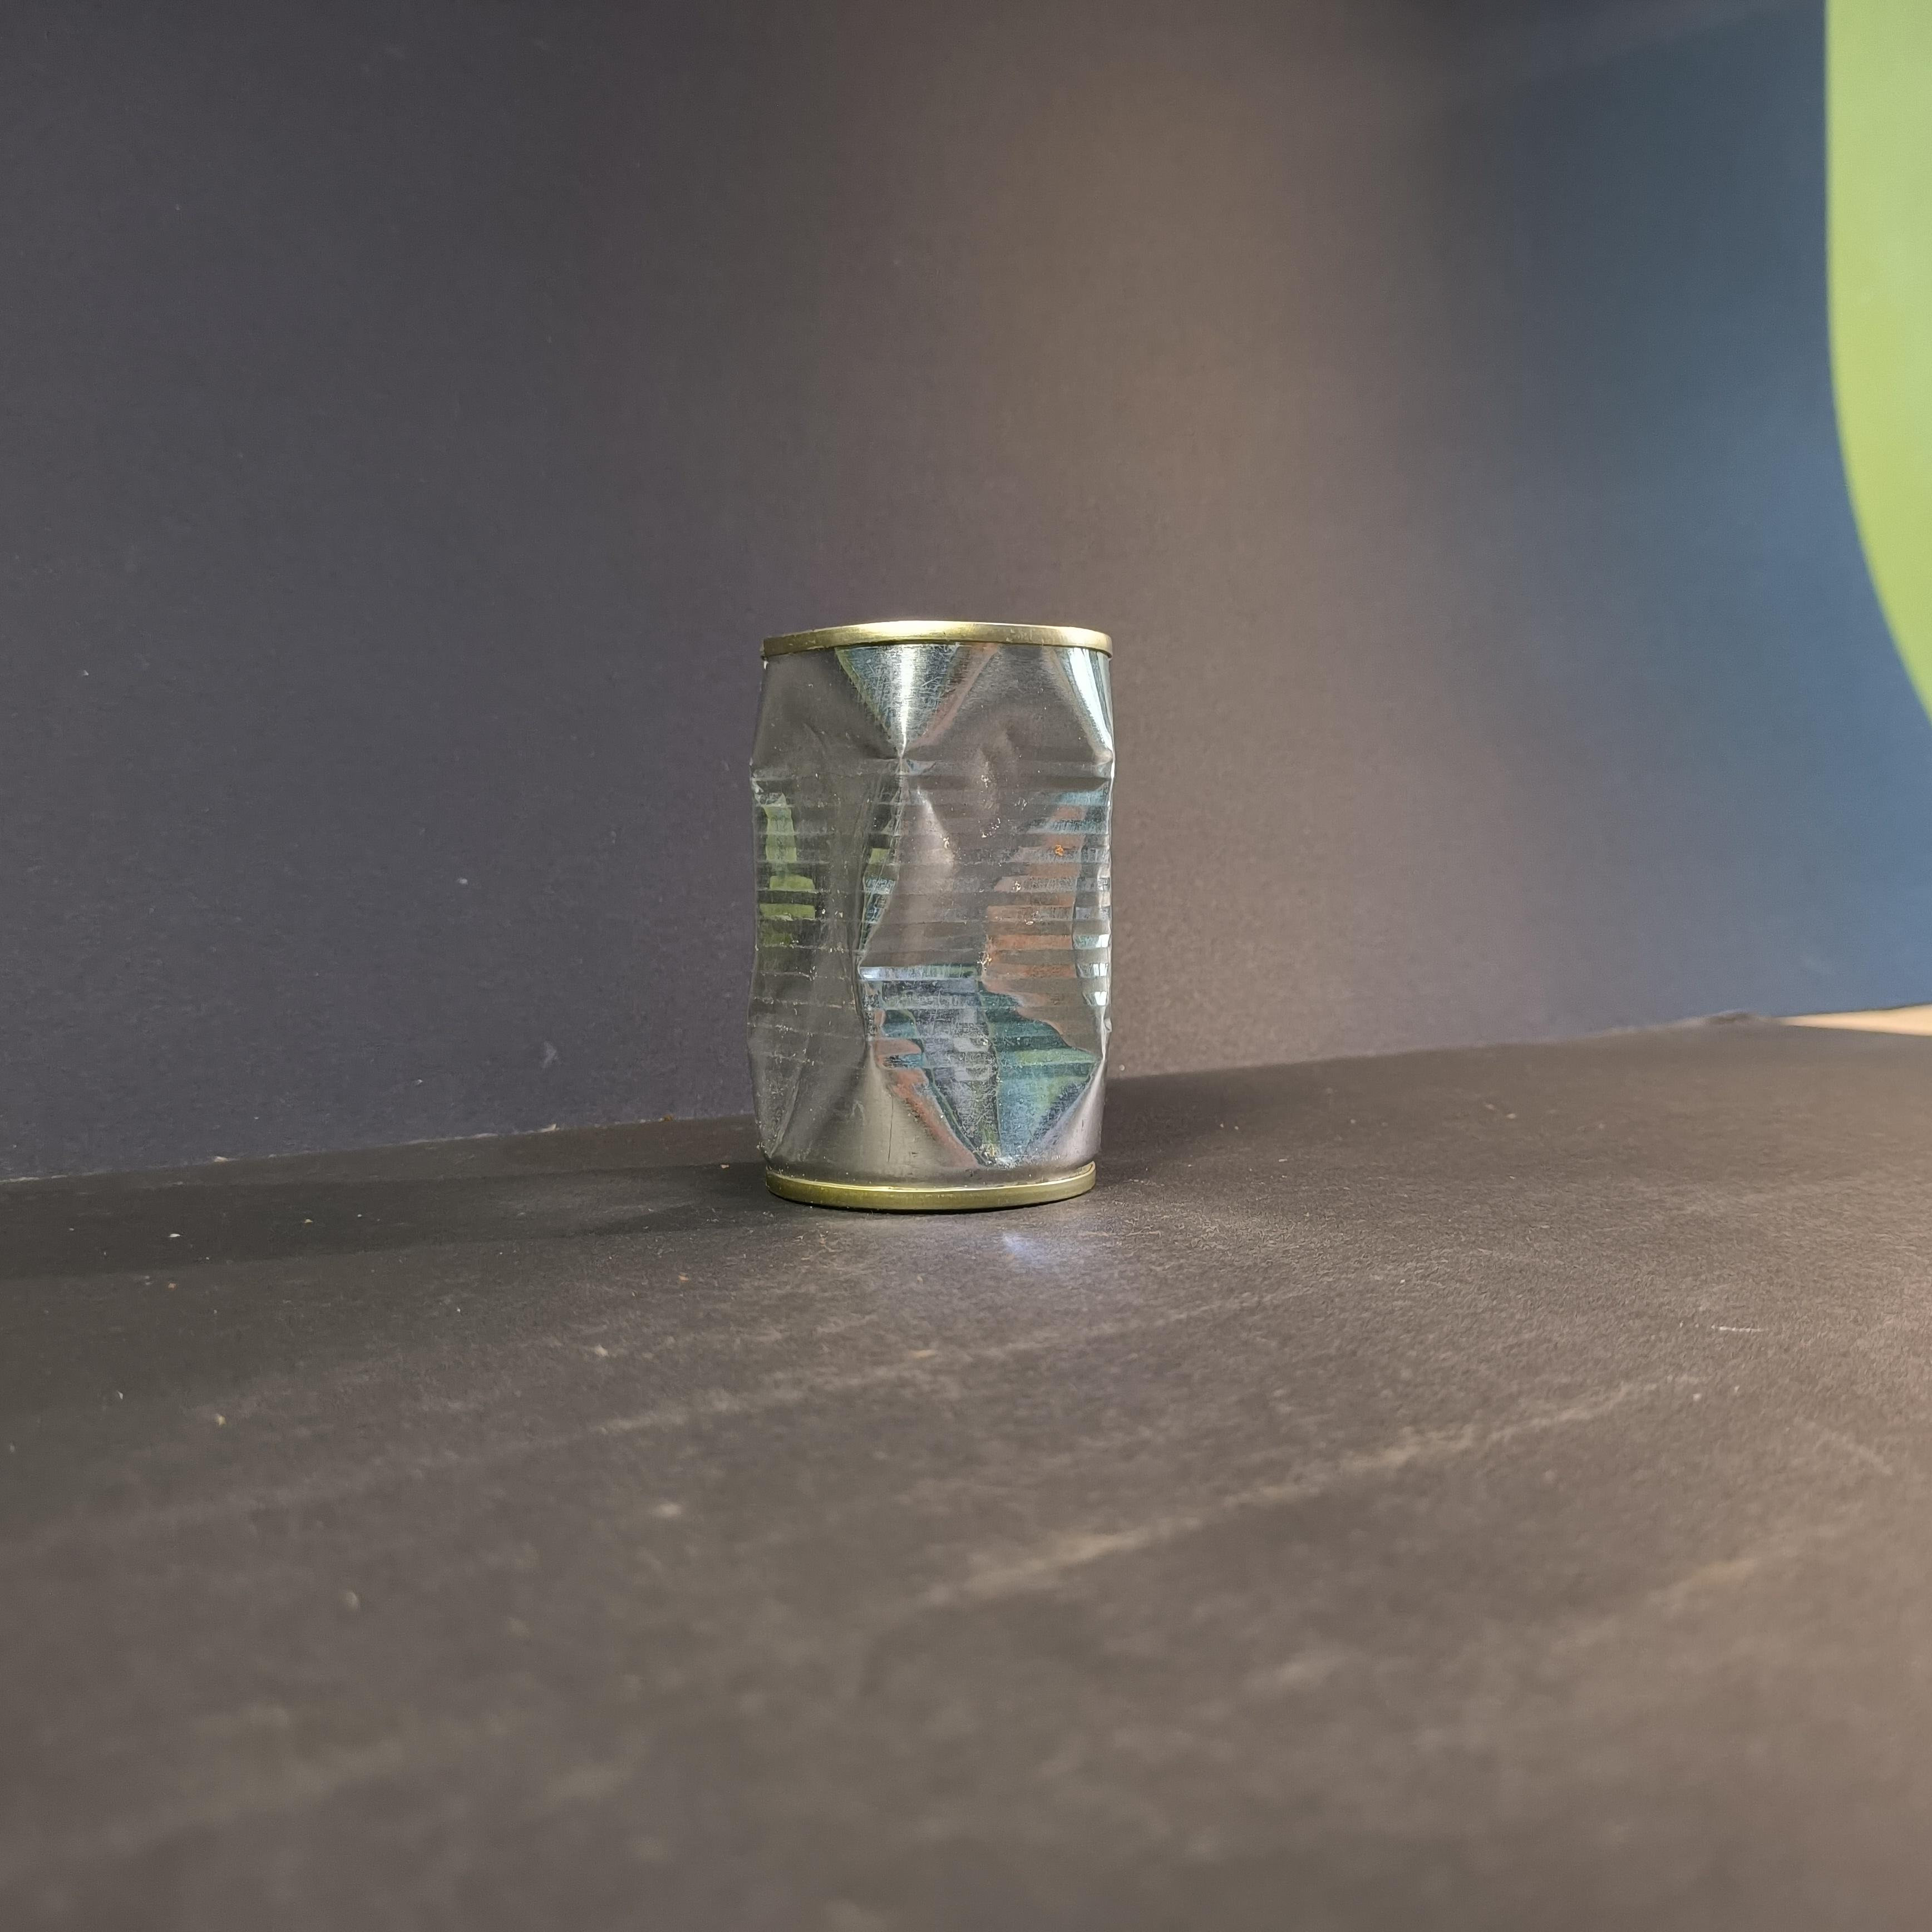Major Defect: (748, 619, 1116, 1212)
